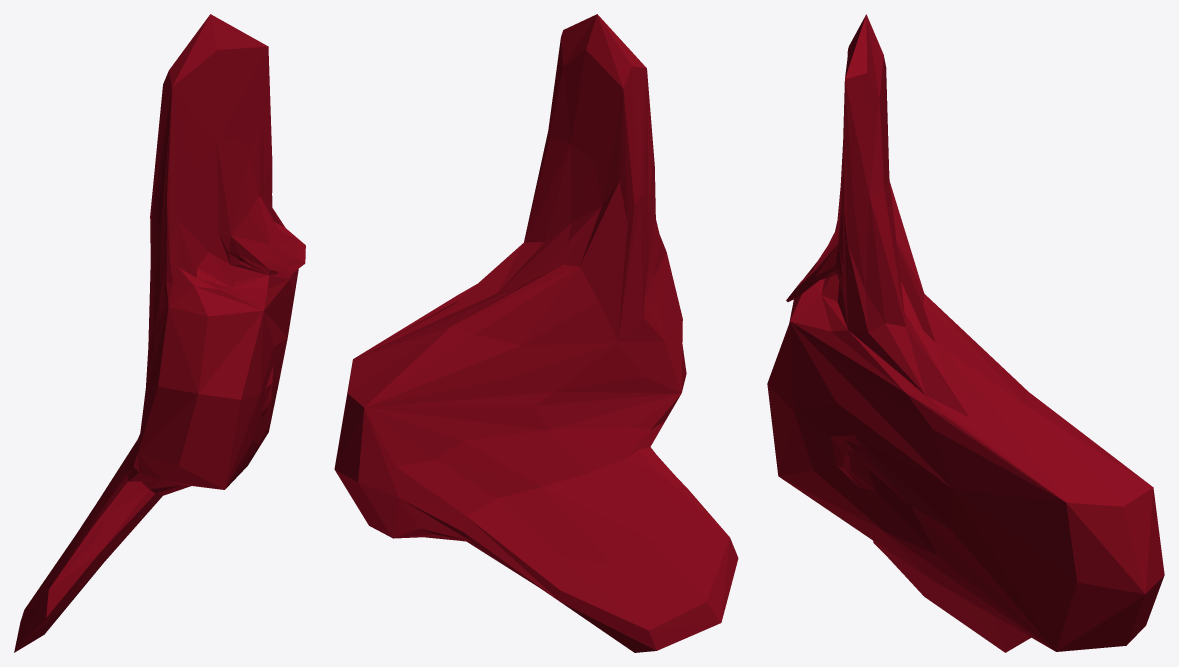
3 views of the same model, side by side, from view 1: azimuth 30°, elevation 25°; view 2: azimuth 150°, elevation 25°; view 3: azimuth 270°, elevation 25° (orthographic). The views are drawn at different scales.
Visible parts, largest first — view 1: 909_Cube.3670; view 2: 909_Cube.3670; view 3: 909_Cube.3670.
Boxes of the visible parts, x1,y1,x2,y2 form: 909_Cube.3670: (14, 14, 305, 652); 909_Cube.3670: (334, 14, 738, 652); 909_Cube.3670: (767, 14, 1164, 652).
Size of the model in its own units: 11 by 19.35 by 10.03.
